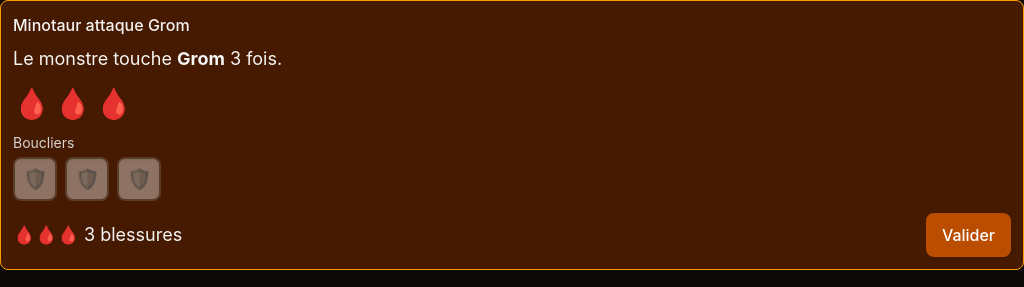
Test: saisie des dés d’un monstre à compétence › défense sans critique de compétence : aucun message de blessure supplémentaire
The image size is (1024, 287).
Expected: the text "🩸🩸🩸 3 blessures" is shown, [13,221,182,249]
Step 1. Click the button named "Boucliers, dé 1" → (35, 179), box [13,157,57,201]
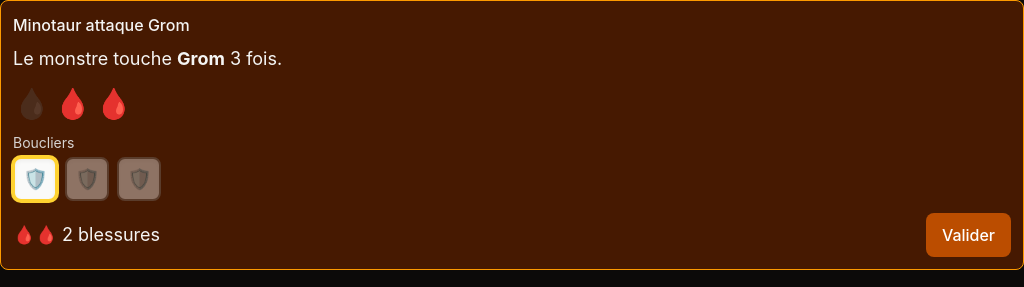
Expected: the text "🩸🩸 2 blessures" is shown, [13,221,160,249]
